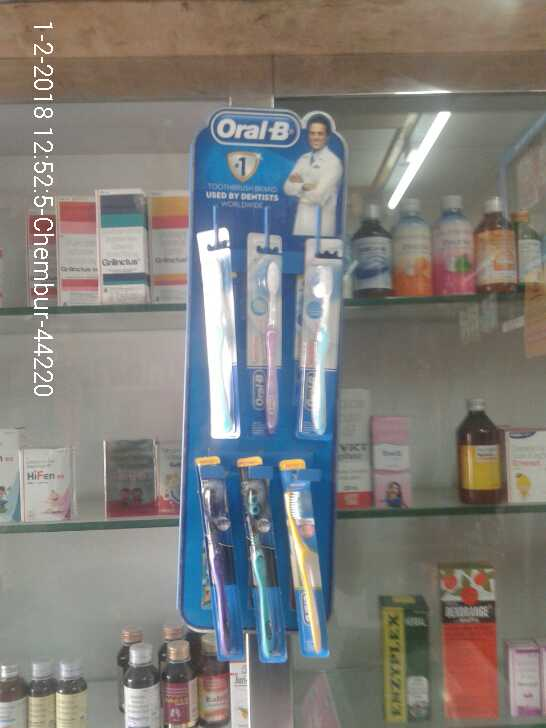oralb: (287, 477, 341, 650), (240, 256, 286, 444), (193, 487, 238, 665), (304, 262, 345, 446), (251, 476, 284, 670)
